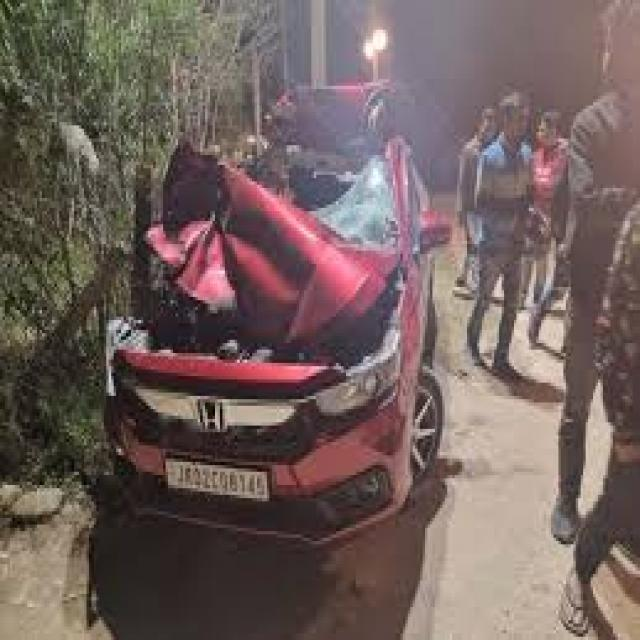accident: (104, 65, 455, 541)
